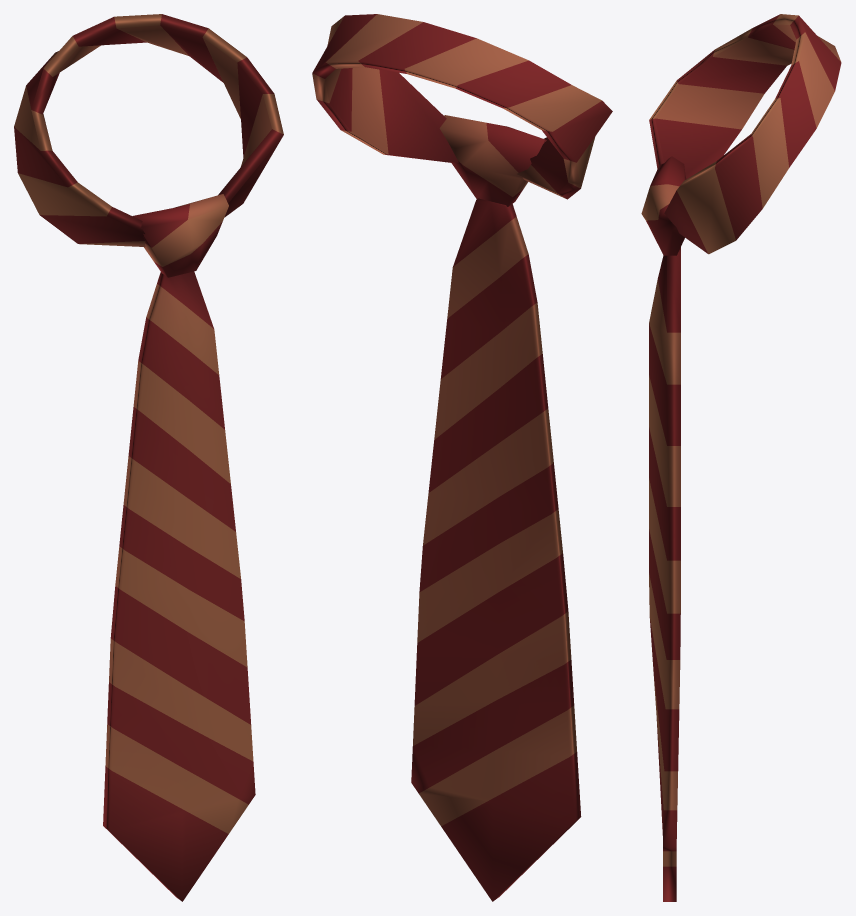
File: human-clothing-necktie_v1.fbx
The picture shows the model from 3 angles, left to right: view 1: azimuth 30°, elevation 25°; view 2: azimuth 150°, elevation 25°; view 3: azimuth 270°, elevation 25°; orthographic projection. The views are drawn at different scales.
Parts seen in each view (by area): view 1: Necktie; view 2: Necktie; view 3: Necktie.
Part boxes in pixels (x1,y1,x2,y2): Necktie: (14,14,283,901); Necktie: (312,14,612,901); Necktie: (641,14,841,901).
Size of the model in its own units: 0.1464 by 0.5 by 0.1042.
